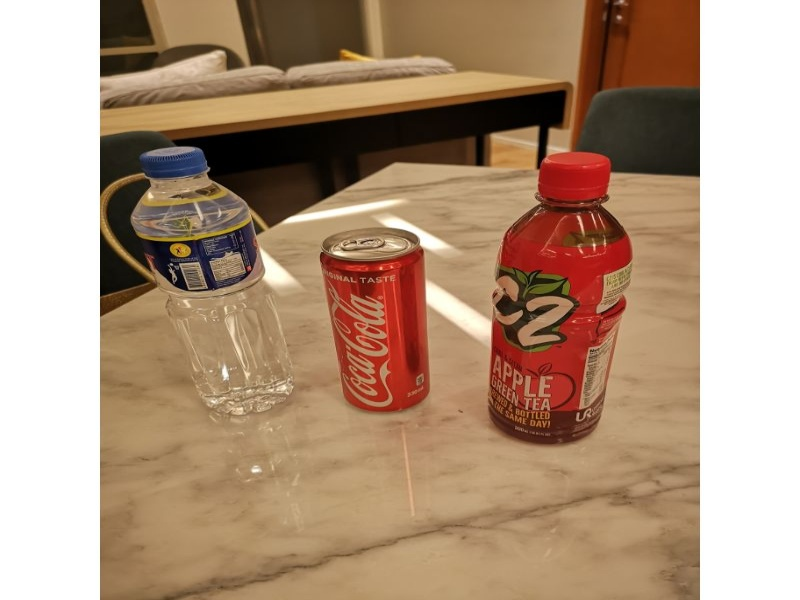PET #1: (130, 142, 294, 419), (488, 151, 636, 454)
